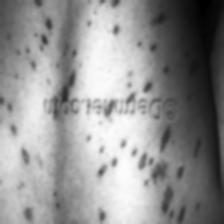Non-Cancerous Skin Condition: (5, 0, 201, 95), (87, 126, 216, 214), (0, 100, 70, 224)
